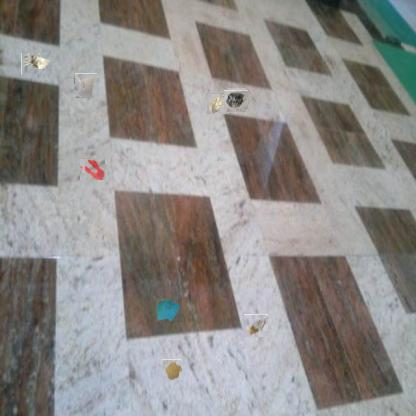dirty: (21, 54, 52, 76), (156, 298, 182, 322), (244, 314, 268, 337), (75, 74, 98, 98), (226, 89, 247, 111), (207, 92, 227, 114)
liquid: (79, 158, 105, 180), (161, 360, 182, 380)
